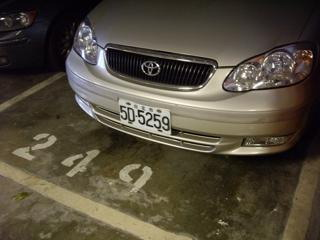plate: (117, 95, 173, 137)
